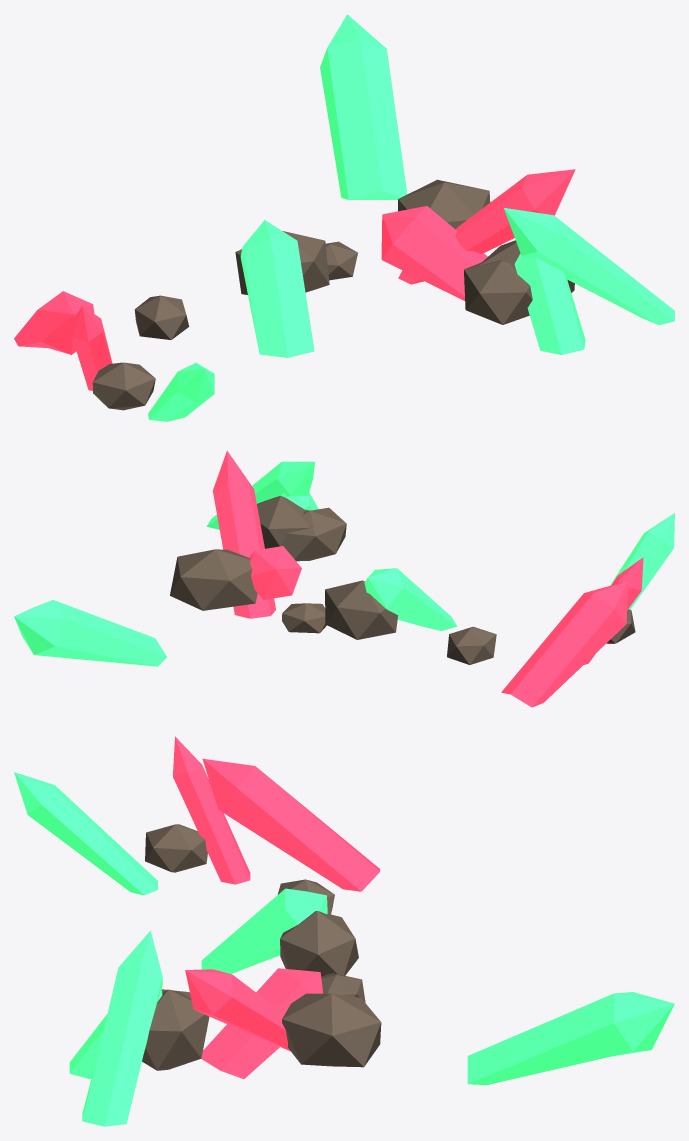
File: mine_crystal_shards.glb
The picture shows the model from 3 angles, top to bottom: view 1: azimuth 30°, elevation 25°; view 2: azimuth 150°, elevation 25°; view 3: azimuth 270°, elevation 25°; orthographic projection. The views are drawn at different scales.
Visible parts, largest first — view 1: mine_crystal_shards; view 2: mine_crystal_shards; view 3: mine_crystal_shards.
Part boxes in pixels (bbox=[...]): mine_crystal_shards: bbox=[14, 14, 674, 421]; mine_crystal_shards: bbox=[14, 450, 674, 707]; mine_crystal_shards: bbox=[14, 736, 674, 1126].
Size of what is drawn, in the model's own units: 1.1 by 0.2351 by 1.1.
